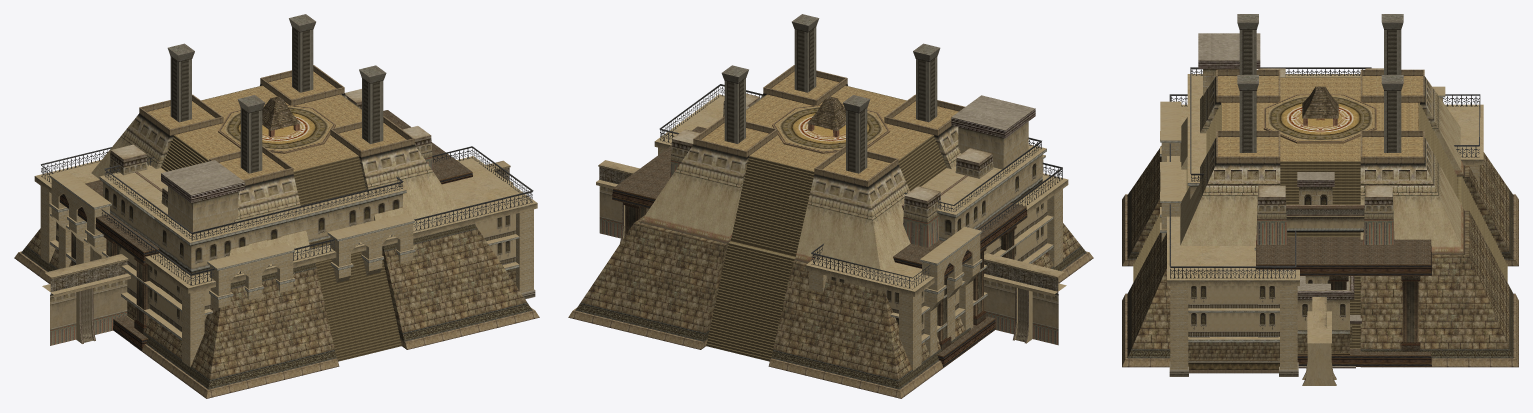
Rendered from props.glb.
3 views of the same model, side by side, from view 1: azimuth 30°, elevation 25°; view 2: azimuth 150°, elevation 25°; view 3: azimuth 270°, elevation 25° (orthographic). The views are drawn at different scales.
Parts seen in each view (by area): view 1: w2_altar, w2_bighouse1, w2_wallgate, w2_gs_house-01, w2_bighouse2, ca_Dratan_guardtower_08; view 2: w2_altar, w2_bighouse1, w2_wallgate, w2_gs_house-01, w2_bighouse2, ca_Dratan_guardtower_08; view 3: w2_altar, w2_bighouse1, w2_gs_house-01, w2_bighouse2, w2_wallgate, ca_Dratan_guardtower_08.
Boxes of the visible parts, bbox=[...] form: w2_altar: bbox=[14, 14, 539, 398]; w2_bighouse1: bbox=[34, 146, 537, 367]; w2_wallgate: bbox=[42, 160, 512, 345]; w2_gs_house-01: bbox=[59, 110, 472, 350]; w2_bighouse2: bbox=[109, 89, 433, 207]; ca_Dratan_guardtower_08: bbox=[262, 96, 300, 137]; w2_altar: bbox=[568, 14, 1093, 398]; w2_bighouse1: bbox=[654, 84, 1068, 370]; w2_wallgate: bbox=[596, 160, 1066, 345]; w2_gs_house-01: bbox=[612, 126, 1027, 367]; w2_bighouse2: bbox=[669, 93, 993, 247]; ca_Dratan_guardtower_08: bbox=[807, 96, 845, 137]; w2_altar: bbox=[1122, 14, 1518, 367]; w2_bighouse1: bbox=[1160, 33, 1483, 376]; w2_gs_house-01: bbox=[1256, 237, 1431, 366]; w2_bighouse2: bbox=[1254, 68, 1394, 250]; w2_wallgate: bbox=[1302, 276, 1336, 385]; ca_Dratan_guardtower_08: bbox=[1302, 86, 1338, 125].
Size of the model in its own units: 93.99 by 49.32 by 68.25.
210 materials, 210 textured.
